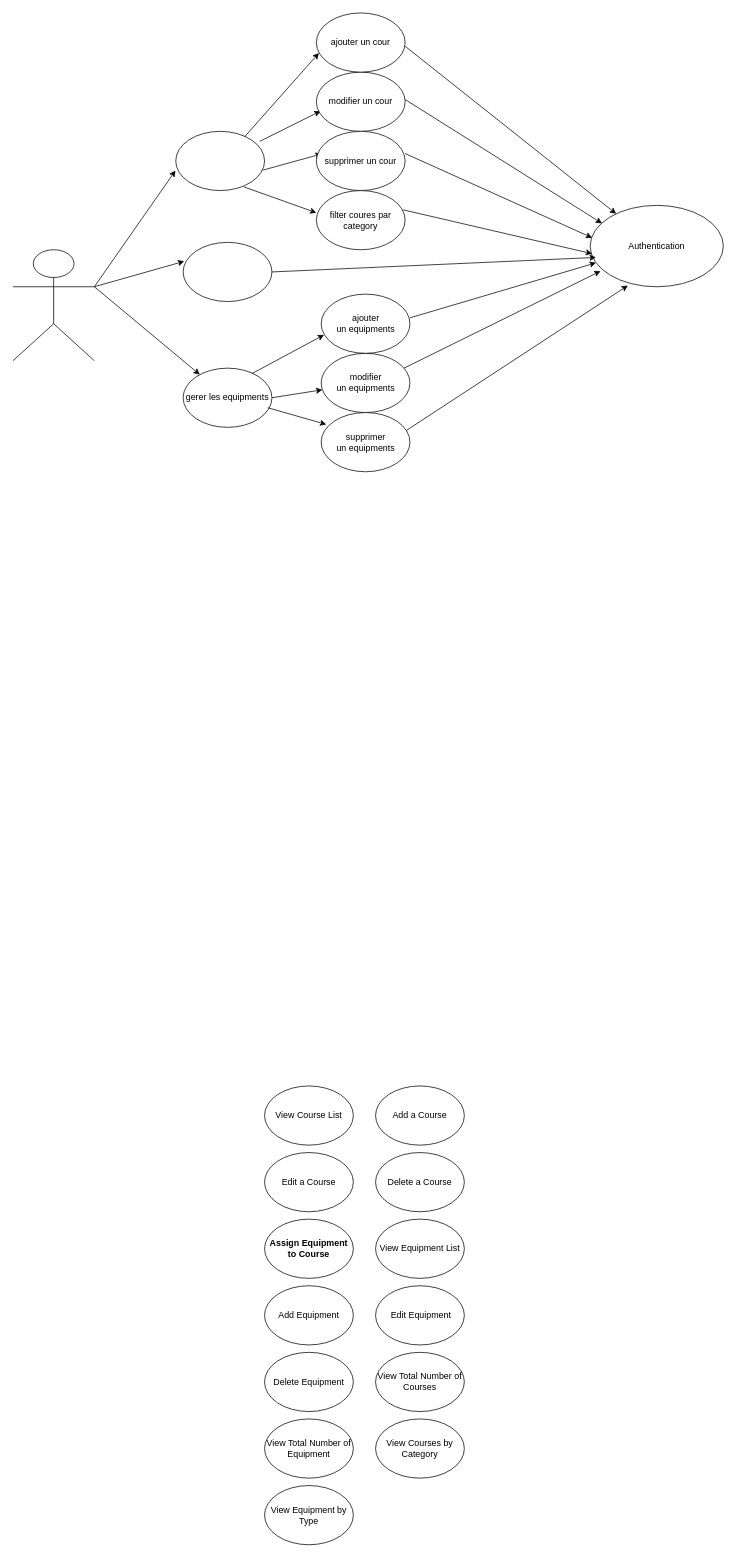
This 736x1558 diagram has some shape labels left out. The centre of each missing label's shape, as x and y in pixels:
"ADMIN" goes at point (53, 305).
"gerer les courses" goes at point (220, 161).
"voir et ajoute les cours _equipements" goes at point (227, 272).
